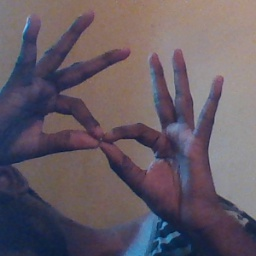B: (27, 63, 180, 193)
